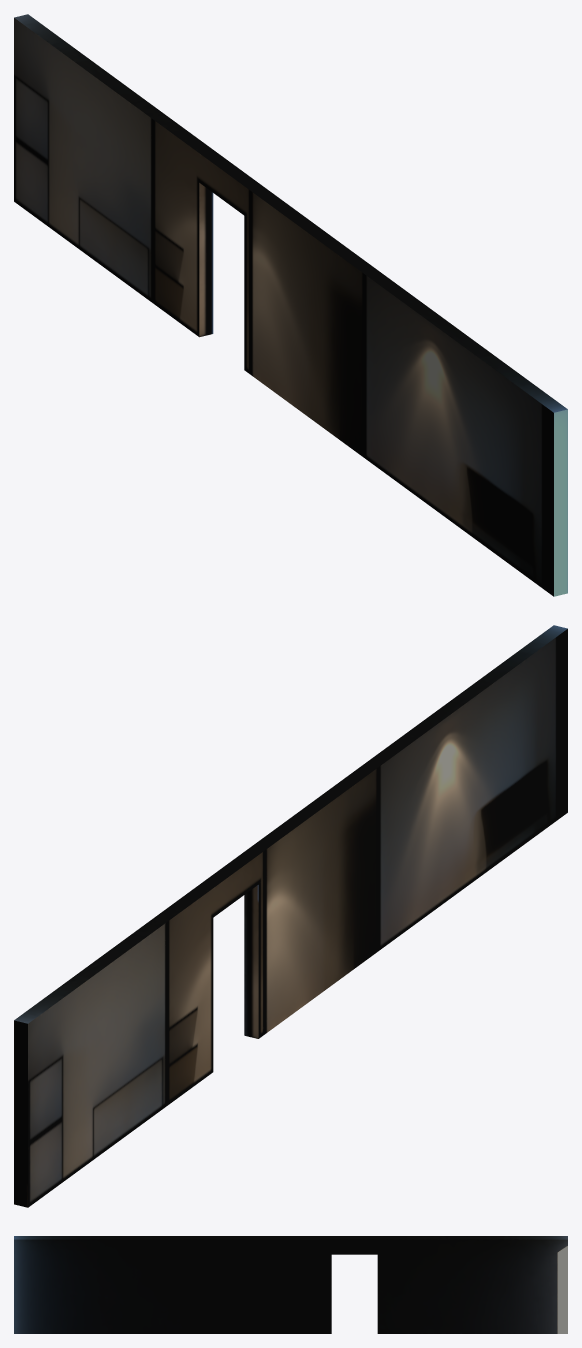
Rendered from Concrete.Wall.B.gltf.
The picture shows the model from 3 angles, top to bottom: view 1: azimuth 30°, elevation 25°; view 2: azimuth 150°, elevation 25°; view 3: azimuth 270°, elevation 25°; orthographic projection. The views are drawn at different scales.
Parts seen in each view (by area): view 1: Concrete.Wall.B; view 2: Concrete.Wall.B; view 3: Concrete.Wall.B.
Boxes of the visible parts, bbox=[...] form: Concrete.Wall.B: bbox=[14, 14, 567, 596]; Concrete.Wall.B: bbox=[14, 625, 567, 1207]; Concrete.Wall.B: bbox=[14, 1236, 567, 1333].
Size of the model in its own units: 0.2 by 2.5 by 13.3.
3 materials, 3 textured.
